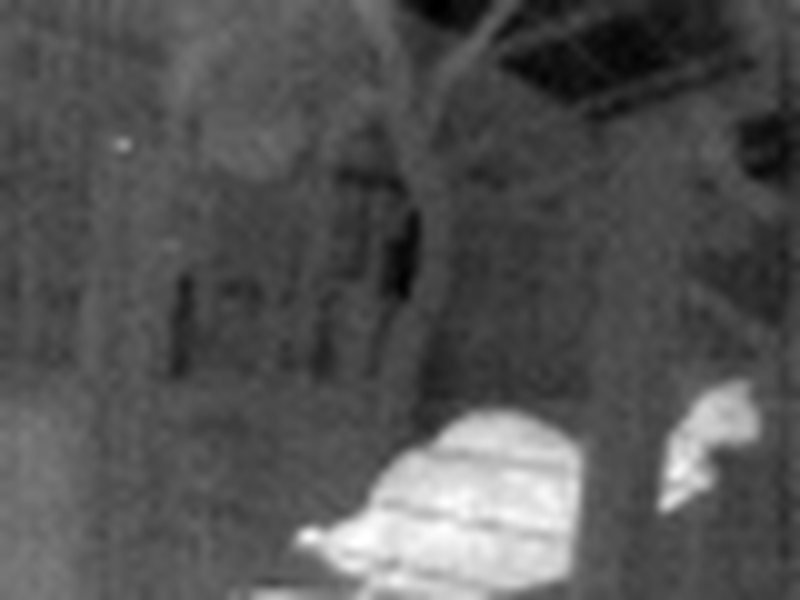elephant: (333, 382, 800, 600)
